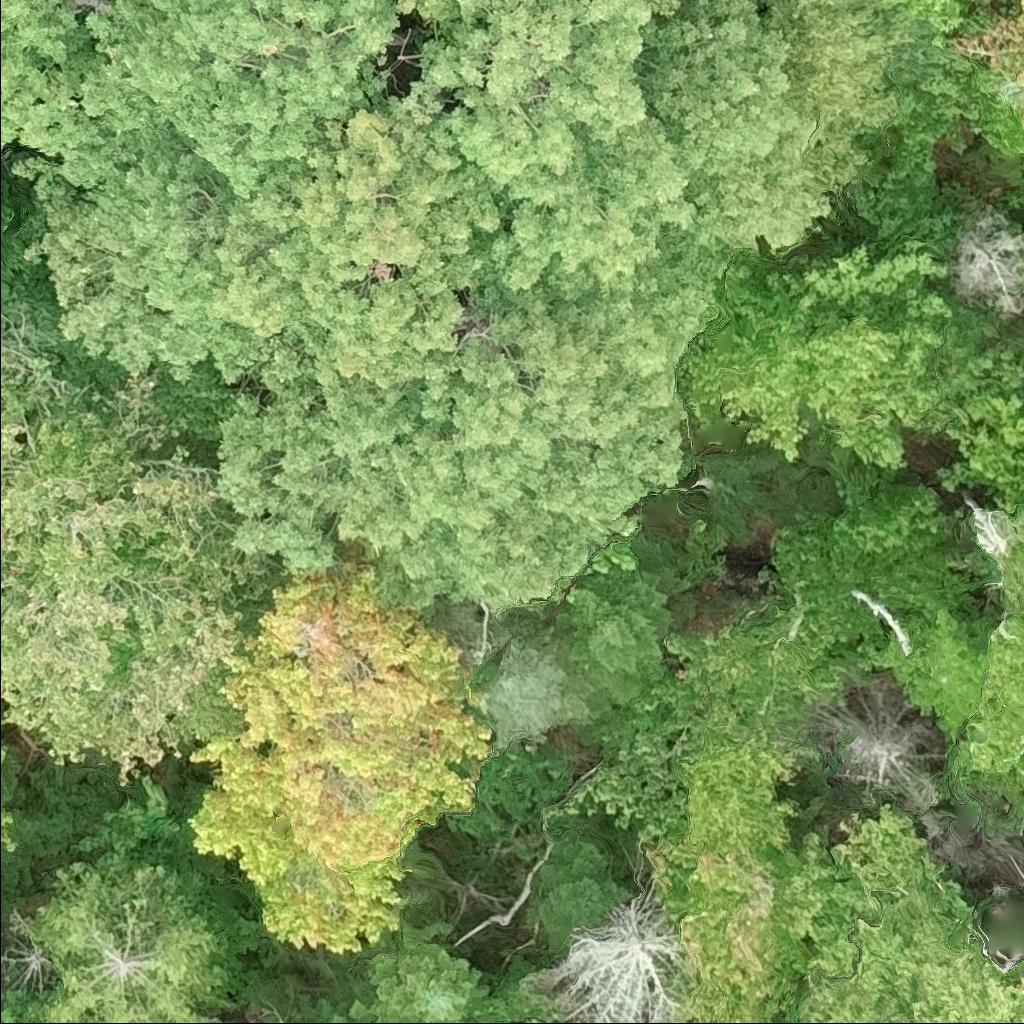crown: (14, 0, 497, 387), (209, 250, 720, 614), (0, 298, 262, 786), (392, 0, 823, 290), (189, 582, 493, 953), (680, 489, 991, 757), (790, 246, 1023, 470), (783, 814, 1023, 1023), (683, 300, 903, 465), (27, 864, 232, 1023), (743, 0, 899, 207), (647, 844, 802, 1023), (533, 894, 690, 1023), (555, 572, 672, 717), (677, 734, 797, 867), (881, 618, 981, 744), (0, 0, 81, 152), (486, 642, 588, 755), (955, 624, 1023, 791), (368, 944, 487, 1023), (955, 212, 1023, 321), (880, 0, 1023, 40), (182, 667, 244, 747), (998, 542, 1023, 600), (0, 992, 42, 1023), (0, 793, 21, 855), (1009, 74, 1023, 136), (0, 744, 10, 765), (512, 1018, 536, 1023)
